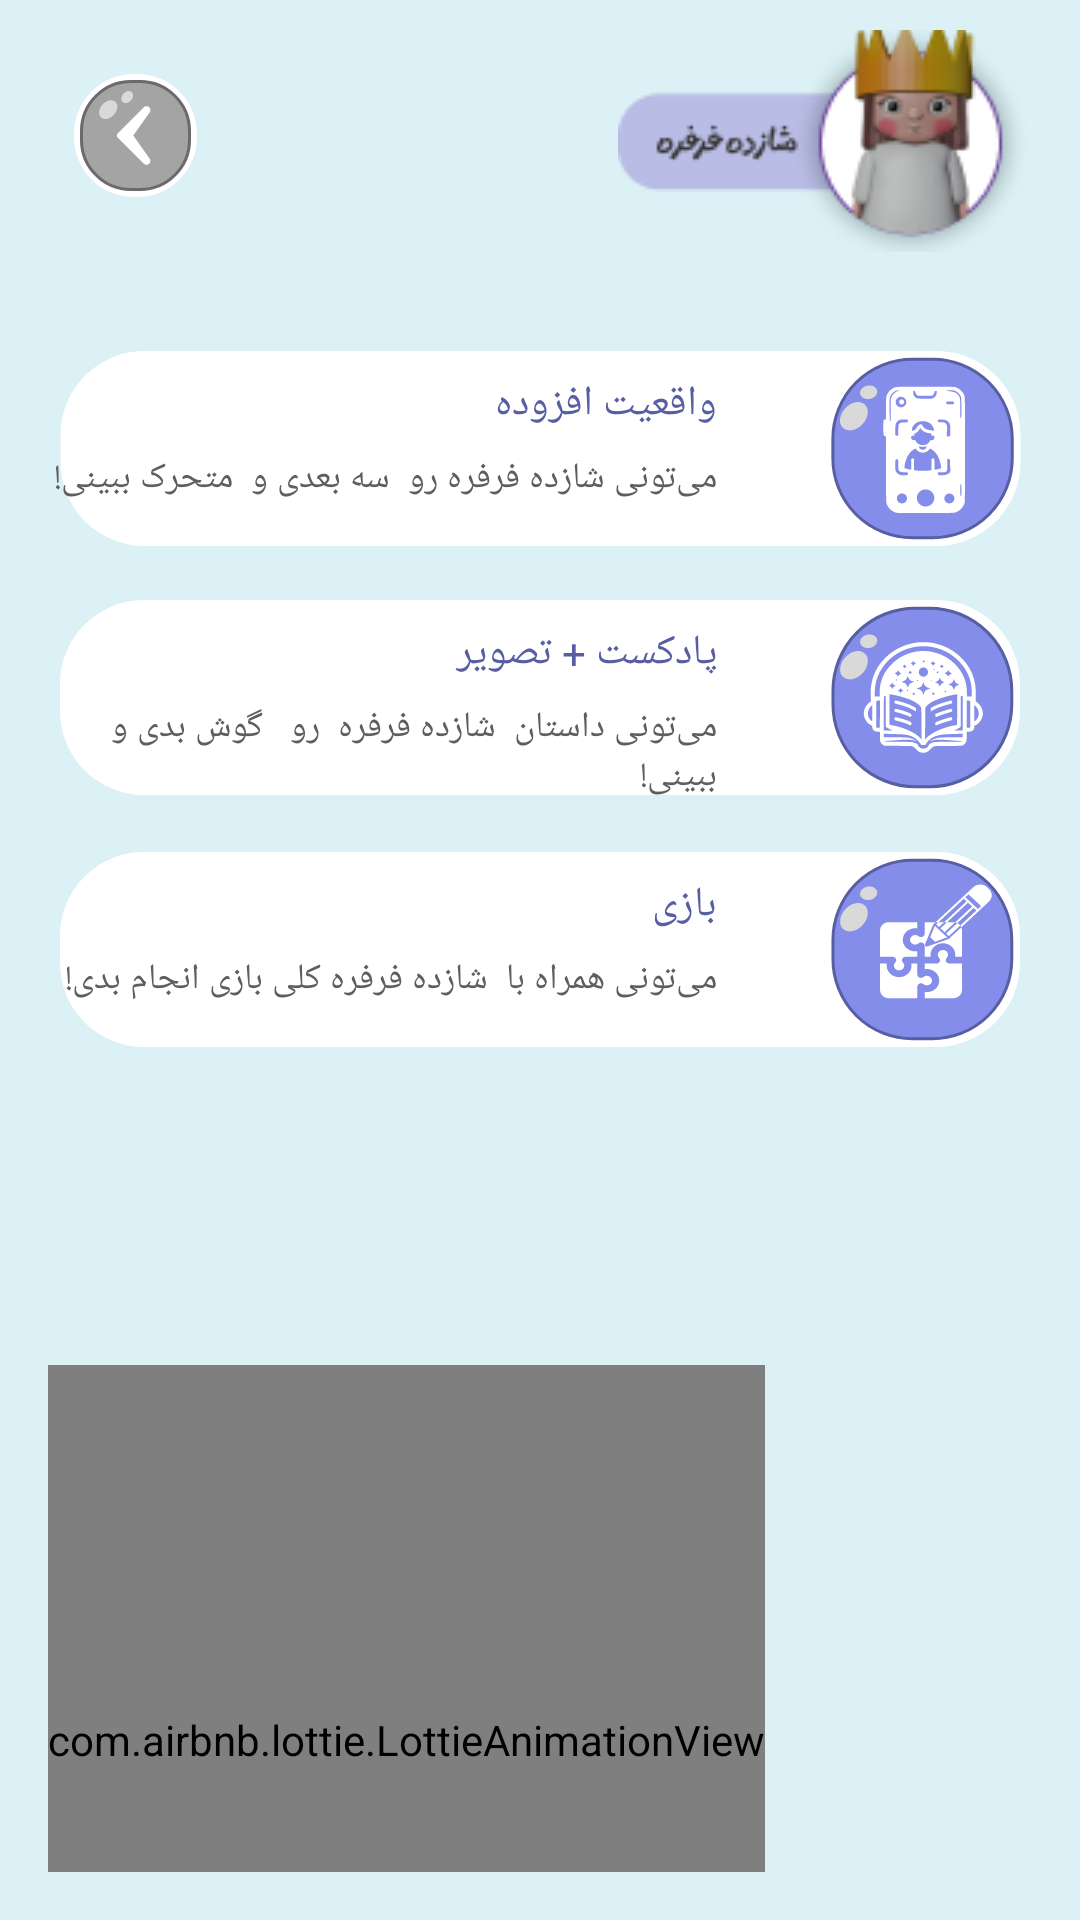

Icons on this 1080×1920 Android screen, each with the point to tap as (x,y):
backbutton: (135,135)
